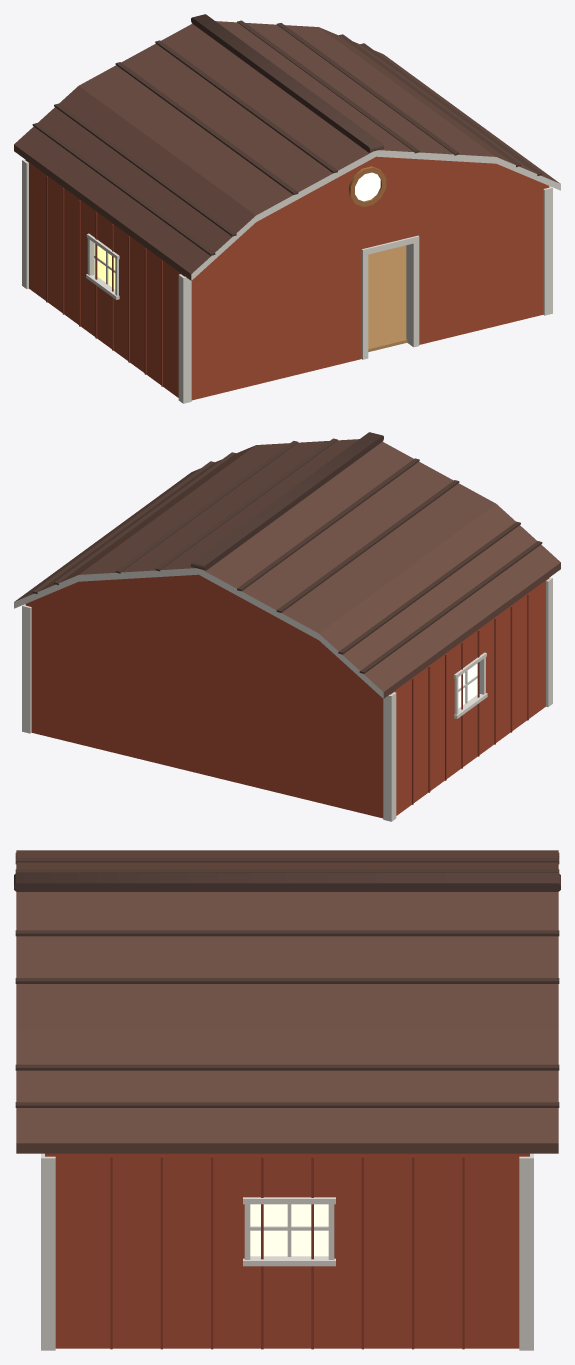
File: food_storage.glb
3 renders of one model, top to bottom at view 1: azimuth 30°, elevation 25°; view 2: azimuth 150°, elevation 25°; view 3: azimuth 270°, elevation 25°, orthographic. The views are drawn at different scales.
Parts seen in each view (by area): view 1: roof, walls_upper, food_storage; view 2: roof, walls_upper, food_storage; view 3: roof, walls_upper, food_storage.
Part boxes in pixels (x1,y1,x2,y2): roof: (14,14,560,280); walls_upper: (22,156,552,355); food_storage: (22,237,552,403); roof: (14,432,560,698); walls_upper: (22,574,552,773); food_storage: (22,655,552,821); roof: (14,850,560,1153); walls_upper: (41,1153,533,1276); food_storage: (41,1275,533,1350).
Bounding box in the file's own units: 8.04 × 4.53 × 6.71.
2 materials, 2 textured.
